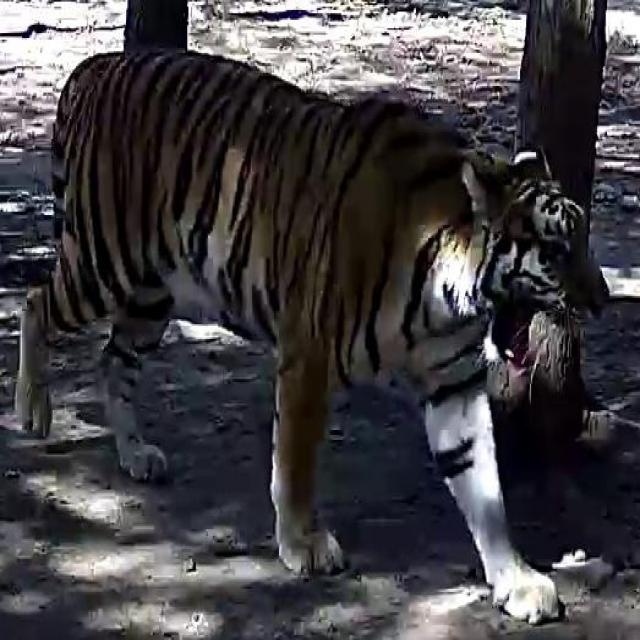TIGER: (18, 44, 613, 604)
